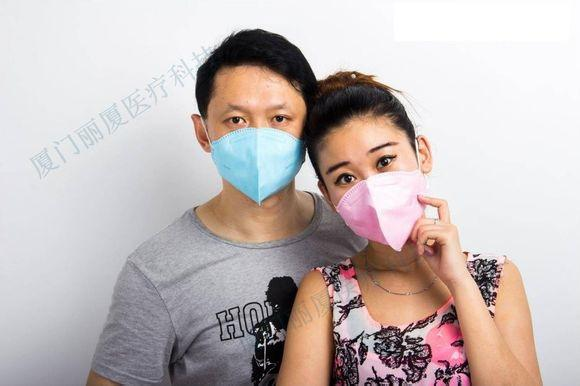OK: (328, 137, 428, 251), (207, 95, 306, 195)
